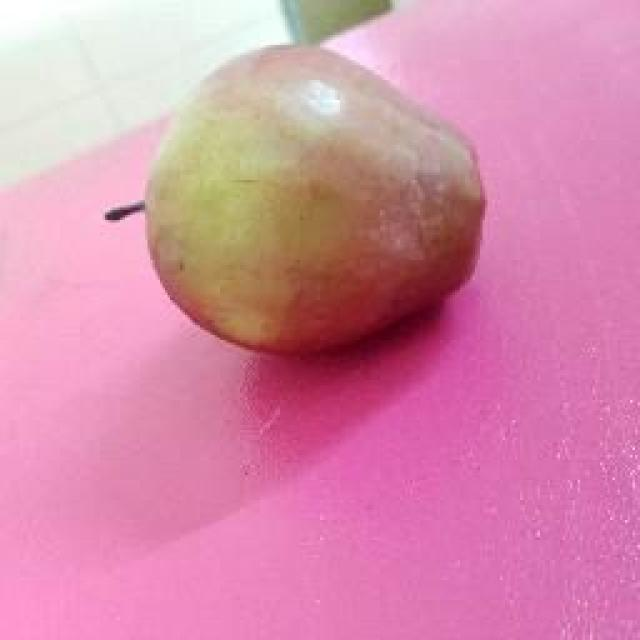Good_Apple: (142, 45, 488, 360)
